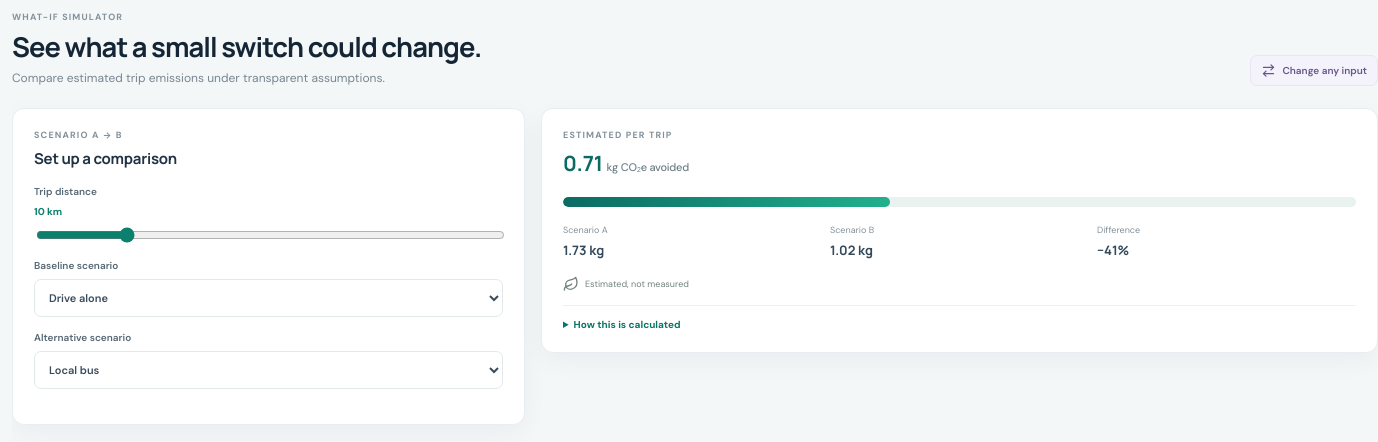
Test: accessible critical interactions › labels equal zero-emissions modes as no change, not 0% savings
Step 1. Select "Walk" in the dropdown labelled "Baseline scenario" → (268, 298), box x1=34 y1=279 x2=503 y2=317
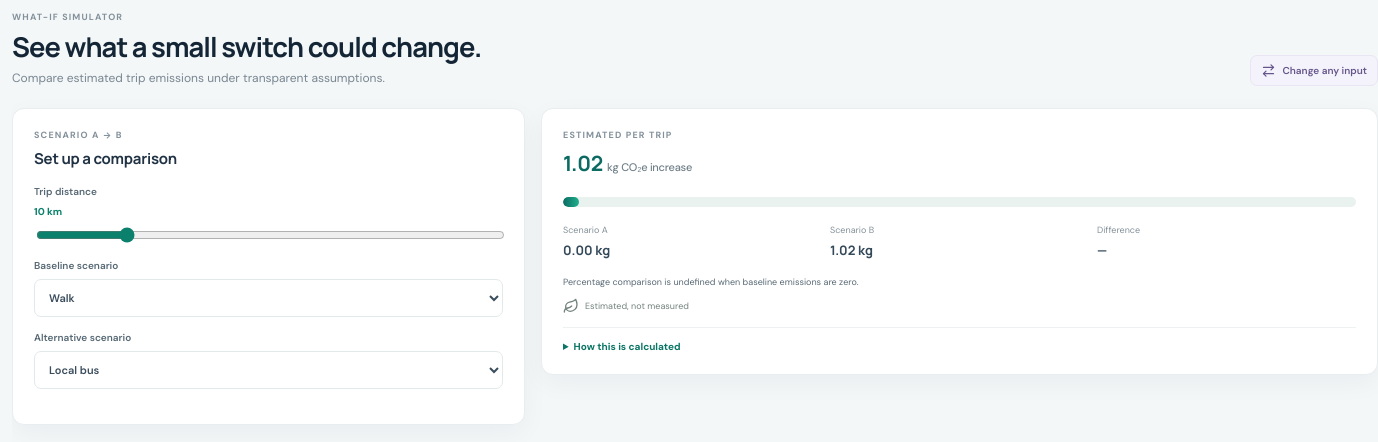
Step 2. Select "Cycle" in the dropdown labelled "Alternative scenario" → (268, 370), box x1=34 y1=351 x2=503 y2=389
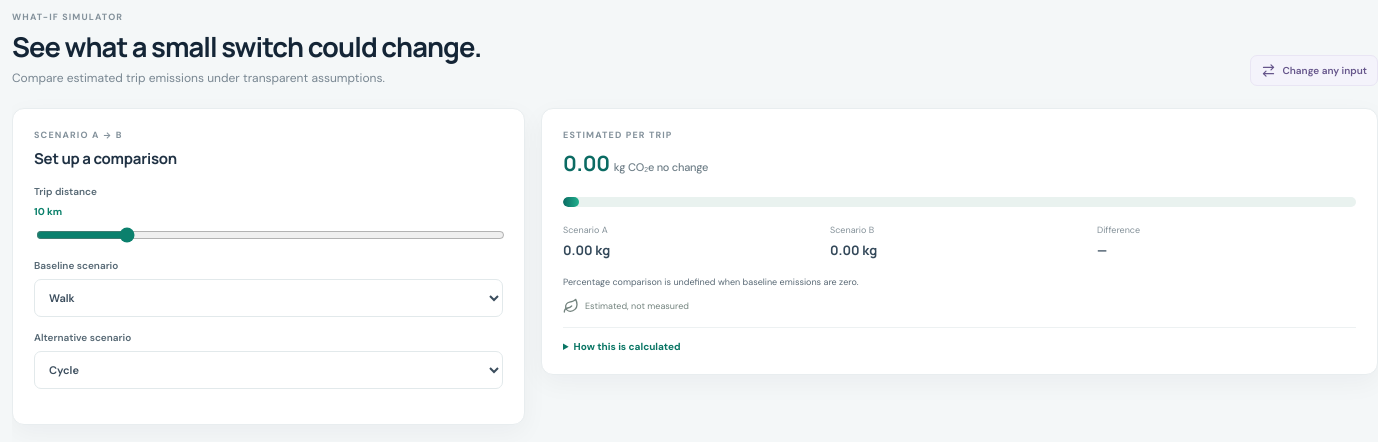
Expected: the text "Percentage comparison is undefined when baseline emissions are zero." is shown, x1=563 y1=276 x2=859 y2=288
Expected: the text "—" is shown, x1=1097 y1=241 x2=1107 y2=259
Expected: the heading "0.00 kg CO₂e no change" is shown, x1=563 y1=149 x2=708 y2=177
